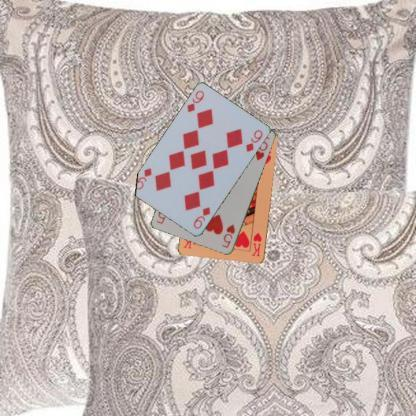5h: (220, 222, 236, 249)
9d: (190, 204, 212, 230), (184, 88, 205, 114)
Kh: (249, 230, 263, 258)
